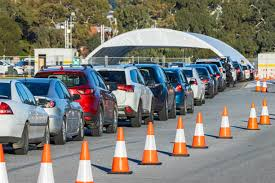car: (37, 71, 118, 133), (25, 78, 85, 141), (93, 66, 155, 123), (1, 78, 50, 147), (138, 66, 177, 118), (166, 69, 196, 111), (185, 68, 205, 104)
cone: (112, 126, 130, 173), (36, 144, 55, 183), (76, 142, 94, 183), (142, 122, 160, 163), (172, 117, 189, 153), (192, 112, 207, 147), (218, 106, 231, 136), (1, 144, 9, 183), (246, 103, 258, 128), (260, 100, 269, 123), (261, 78, 268, 91), (255, 78, 261, 92)
